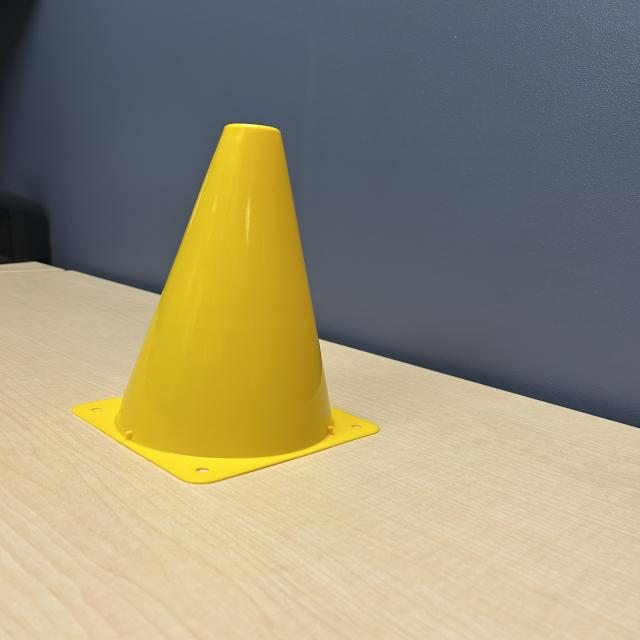yellow cone: (74, 118, 391, 488)
